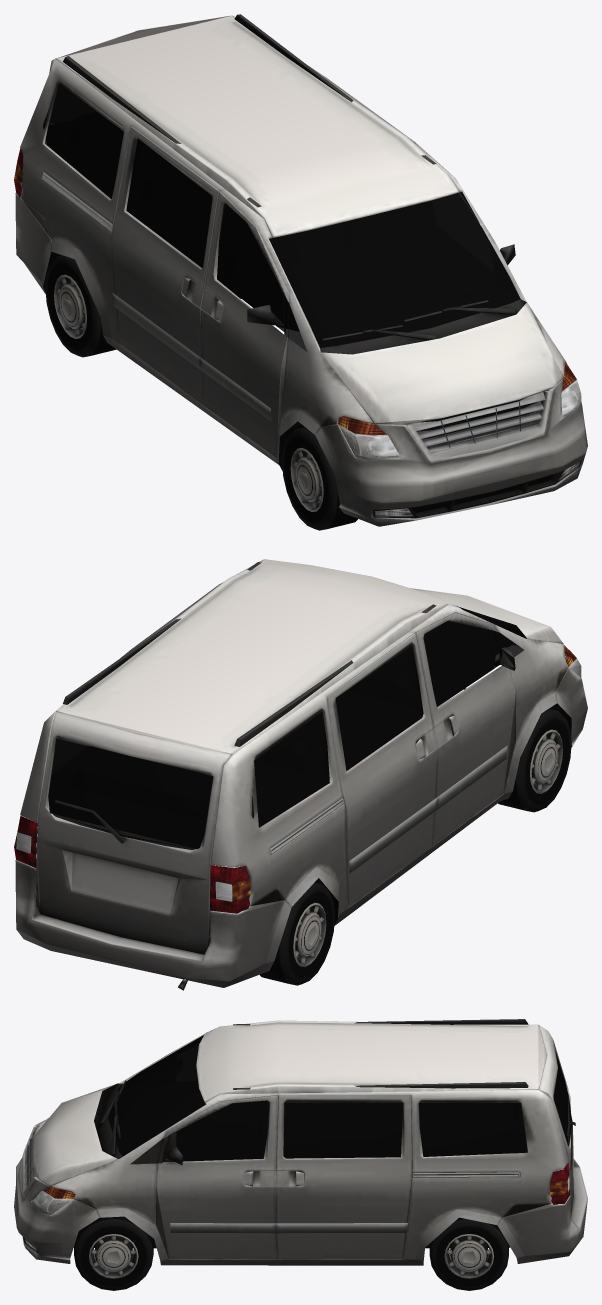
File: delivery_lo.glb
3 views of the same model, one above another, from view 1: azimuth 30°, elevation 25°; view 2: azimuth 150°, elevation 25°; view 3: azimuth 270°, elevation 25° (orthographic). The views are drawn at different scales.
Visible parts, largest first — view 1: body, wheel_fr, wheel_rr; view 2: body, wheel_rr, wheel_fr; view 3: body, wheel_fl, wheel_rl.
Boxes of the visible parts, x1,y1,x2,y2 form: body: (14,14,587,526); wheel_fr: (282,426,357,530); wheel_rr: (45,255,116,357); body: (14,559,587,990); wheel_rr: (259,882,334,985); wheel_fr: (498,708,571,812); body: (14,1019,587,1265); wheel_fl: (74,1216,153,1290); wheel_rl: (429,1217,508,1290).
Bounding box in the file's own units: 1.98 × 1.86 × 4.87.
Materials: 4 (3 with a texture image).
